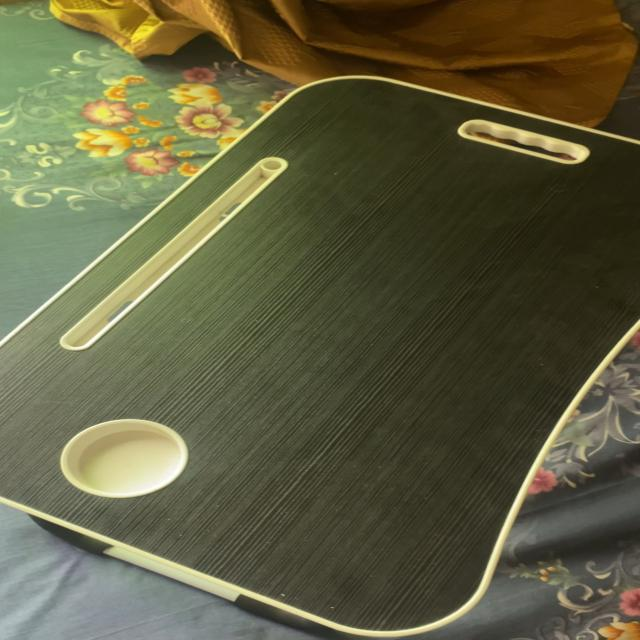table: (1, 53, 640, 640)
